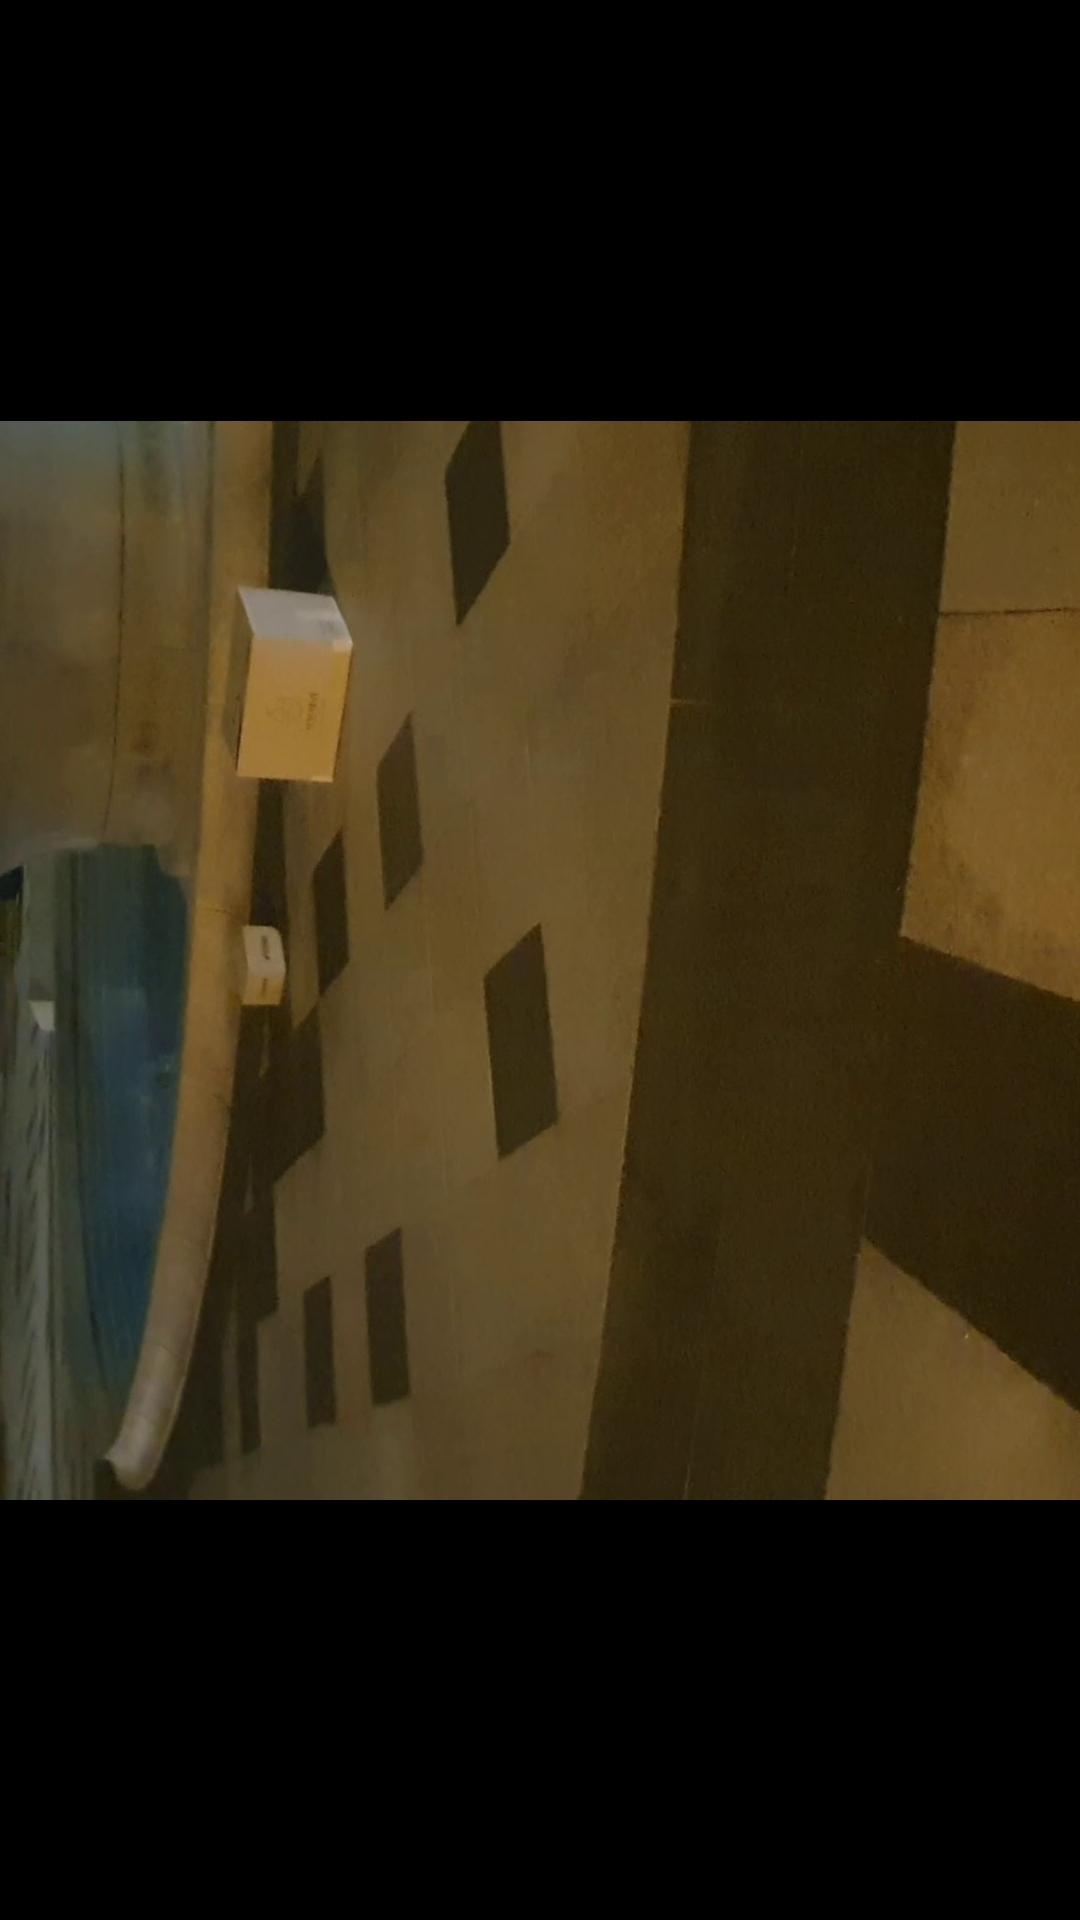Box: (214, 583, 363, 771), (223, 913, 303, 1019)
